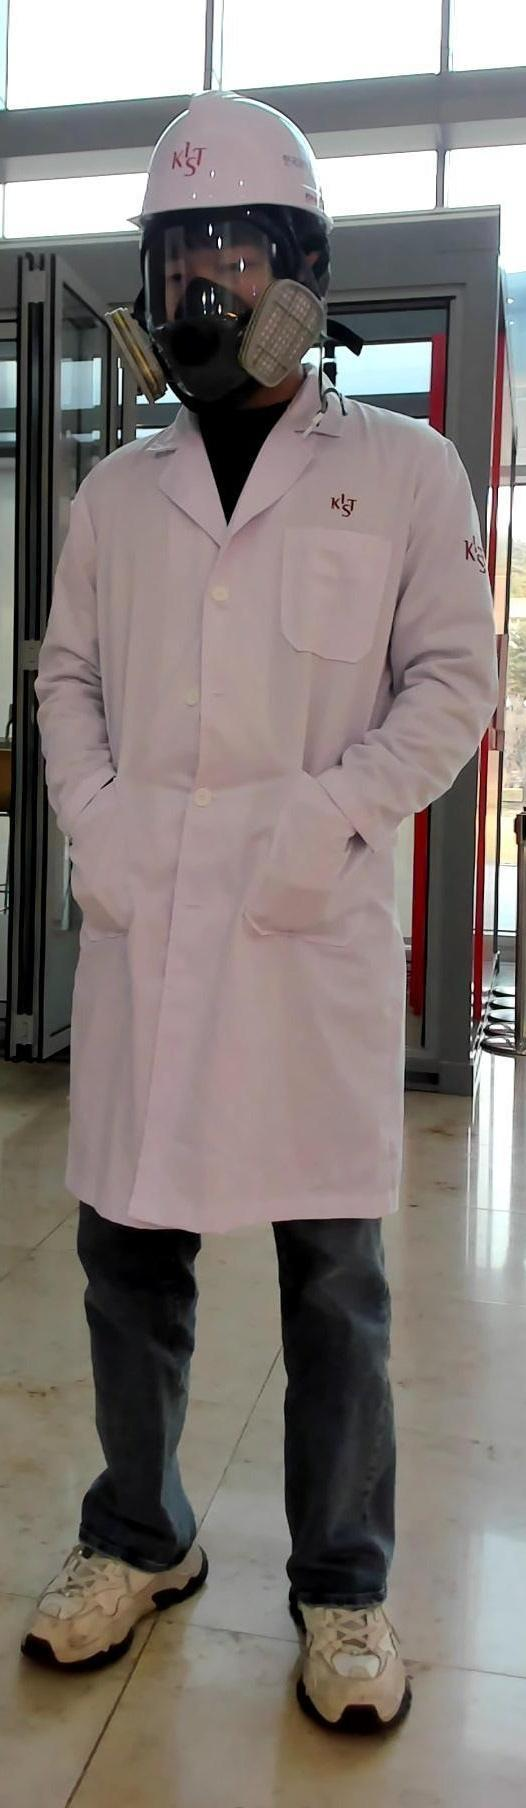lab_coat: (37, 444, 481, 1198)
